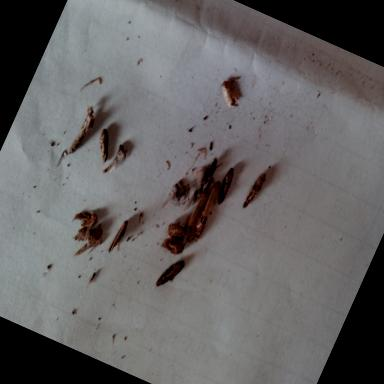pbw: (214, 70, 247, 110), (155, 254, 186, 294), (197, 180, 224, 225), (67, 206, 100, 240), (242, 169, 268, 212), (90, 128, 118, 164), (74, 220, 106, 250), (186, 189, 210, 229), (213, 167, 237, 206), (107, 218, 131, 256), (67, 122, 89, 156), (160, 232, 188, 258), (190, 213, 212, 244), (164, 220, 190, 243)
